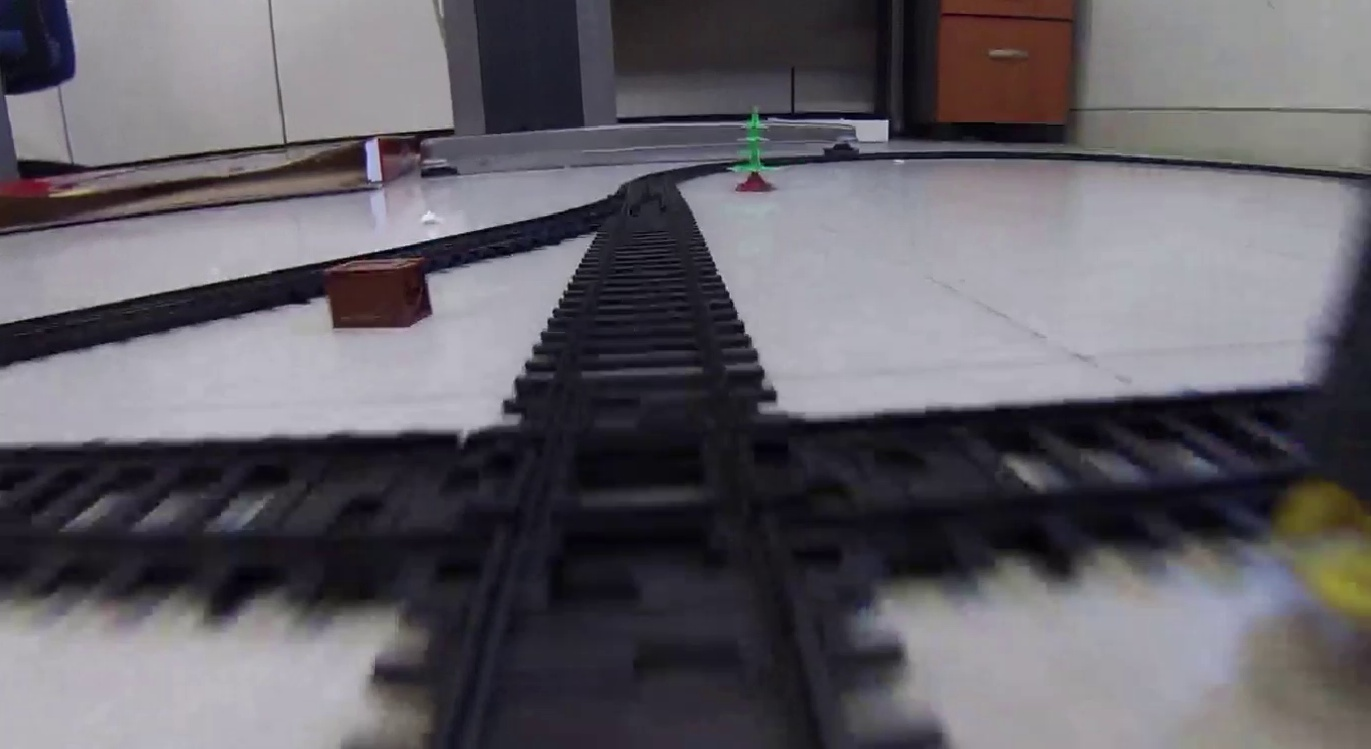box: (327, 259, 433, 329)
tree: (727, 107, 776, 194)
